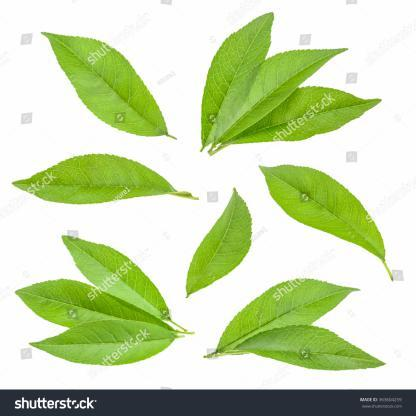Peach leaf: (35, 29, 176, 139), (207, 46, 350, 149), (204, 278, 366, 358), (259, 162, 386, 263), (199, 7, 282, 151), (10, 147, 196, 210), (224, 82, 388, 150), (61, 233, 172, 322), (176, 189, 258, 297), (16, 274, 155, 334), (229, 322, 392, 372), (26, 318, 182, 369)
